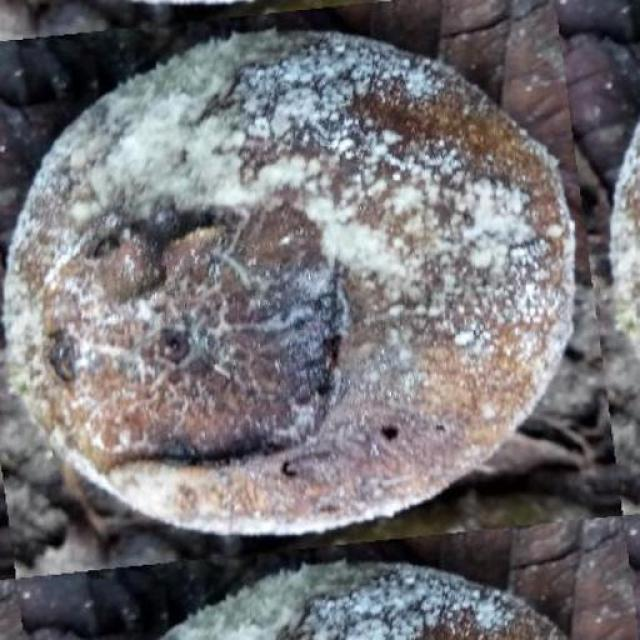Phytopthora: (5, 31, 574, 534), (161, 561, 565, 639)
